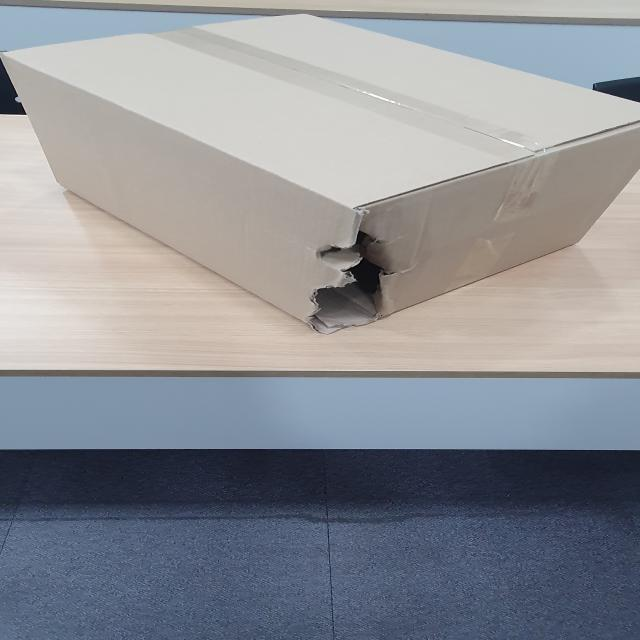hole: (304, 224, 390, 332)
